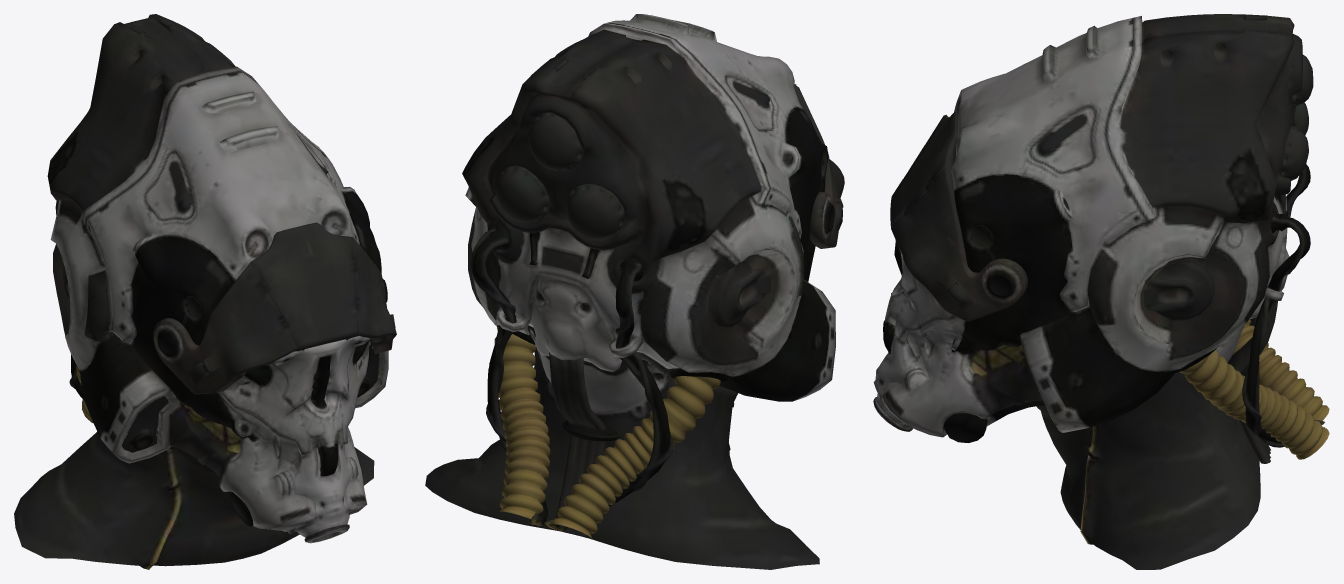
Rendered from hero-helmet.glb.
The picture shows the model from 3 angles, left to right: view 1: azimuth 30°, elevation 25°; view 2: azimuth 150°, elevation 25°; view 3: azimuth 270°, elevation 25°; orthographic projection. The views are drawn at different scales.
Visible parts, largest first — view 1: SciFiHelmet; view 2: SciFiHelmet; view 3: SciFiHelmet.
Boxes of the visible parts, bbox=[...] form: SciFiHelmet: bbox=[14, 14, 396, 569]; SciFiHelmet: bbox=[425, 14, 844, 569]; SciFiHelmet: bbox=[873, 14, 1329, 569].
Size of the model in its own units: 2.3 by 2.92 by 2.5.
1 material, 1 textured.
